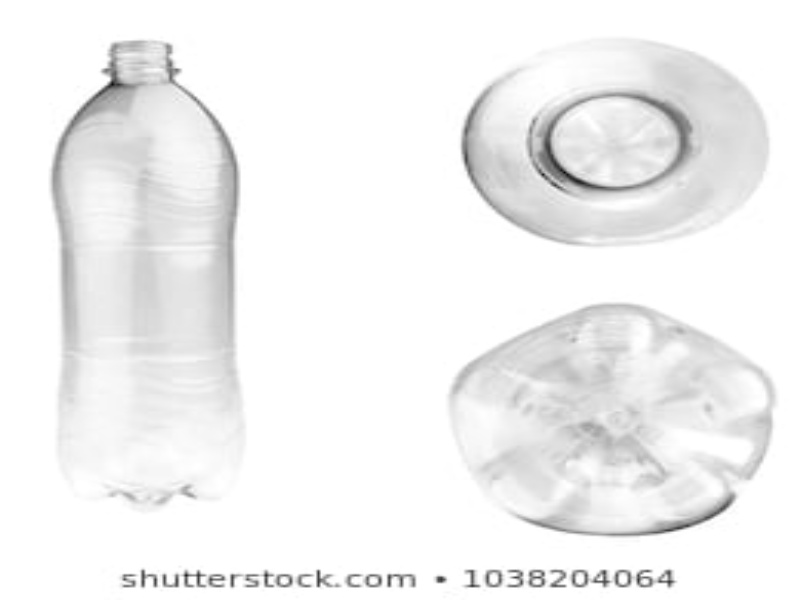plastic-bottle: (47, 38, 249, 504), (446, 301, 778, 538), (460, 36, 772, 247)
